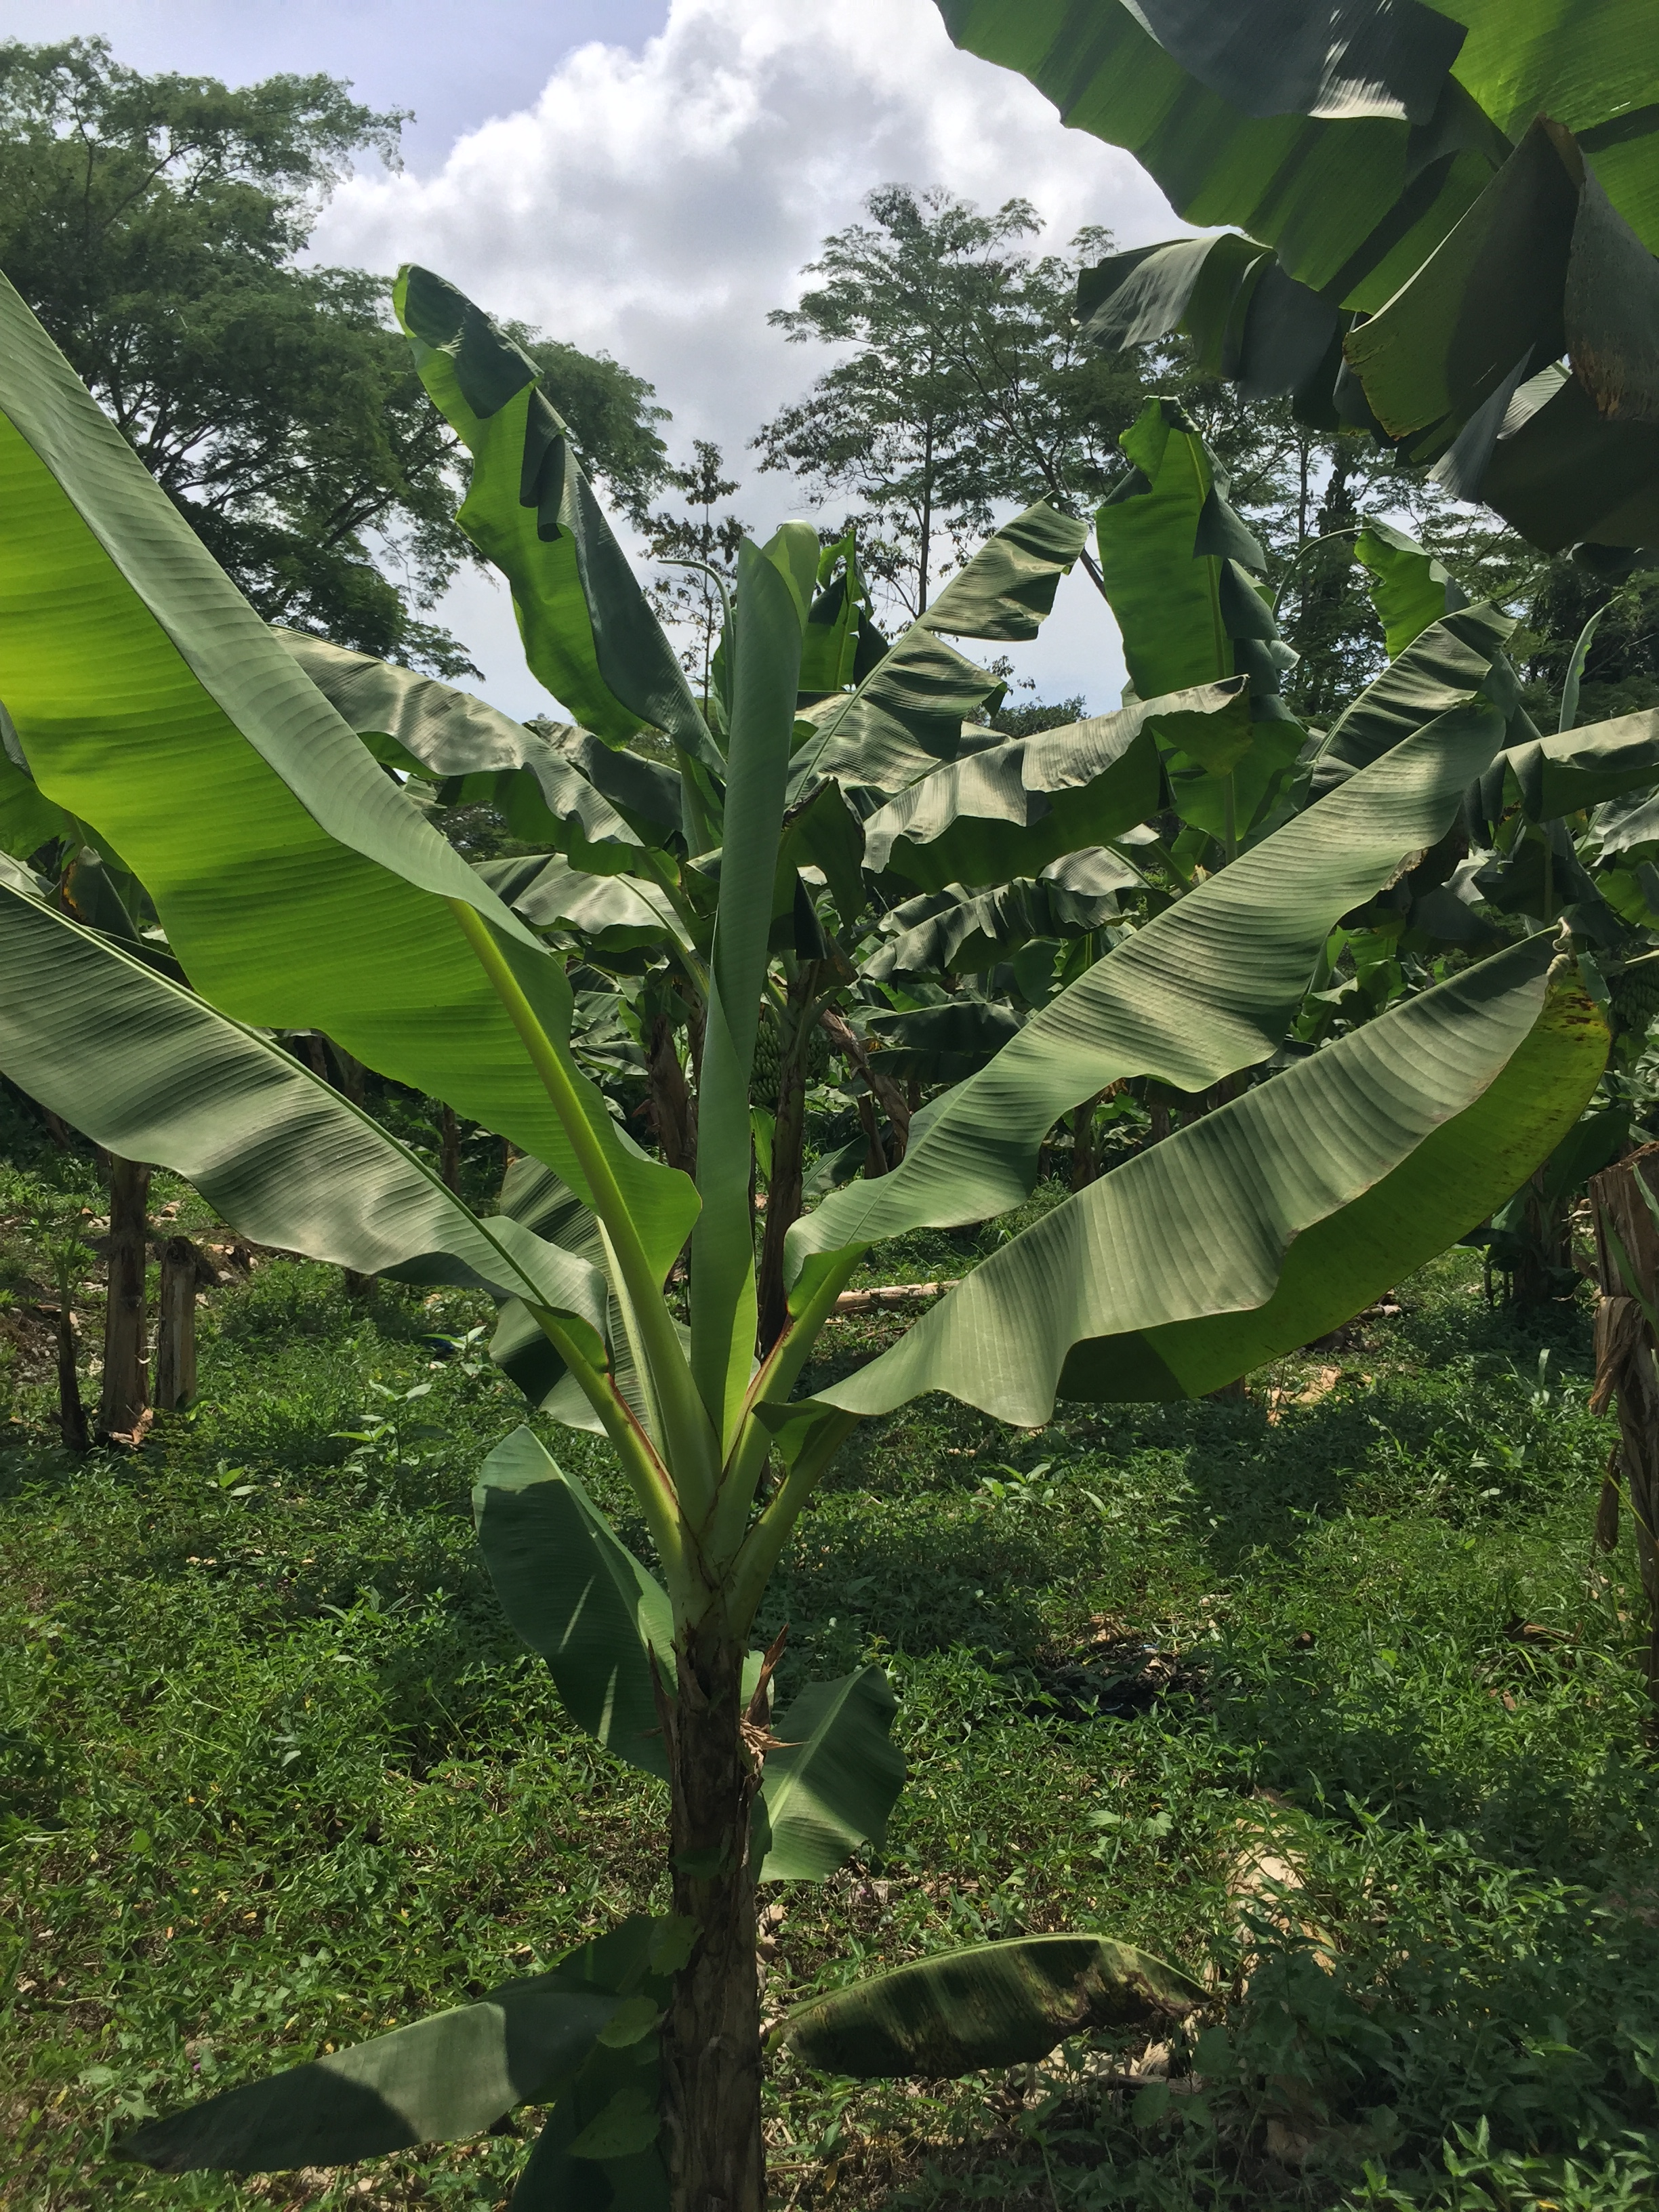candleleafs: (687, 519, 819, 1426)
